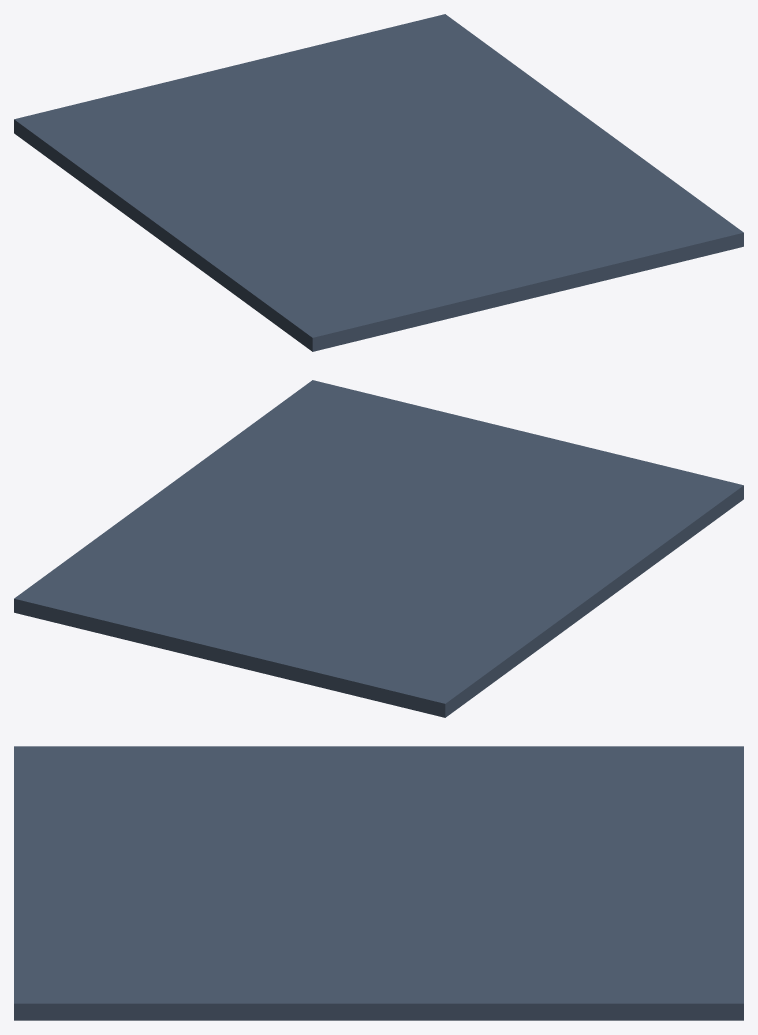
The model's file is floor_004_u_chamber_4_lokalnyy_post_floor.obj.
The picture shows the model from 3 angles, top to bottom: view 1: azimuth 30°, elevation 25°; view 2: azimuth 150°, elevation 25°; view 3: azimuth 270°, elevation 25°; orthographic projection. The views are drawn at different scales.
Parts seen in each view (by area): view 1: Floor_004_u_chamber_4_lokalnyy_post_floor; view 2: Floor_004_u_chamber_4_lokalnyy_post_floor; view 3: Floor_004_u_chamber_4_lokalnyy_post_floor.
Boxes of the visible parts, x1=… form: Floor_004_u_chamber_4_lokalnyy_post_floor: x1=14, y1=14, x2=743, y2=351; Floor_004_u_chamber_4_lokalnyy_post_floor: x1=14, y1=380, x2=743, y2=717; Floor_004_u_chamber_4_lokalnyy_post_floor: x1=14, y1=746, x2=743, y2=1020.
Bounding box in the file's own units: 6.42 × 0.2 × 7.7.
